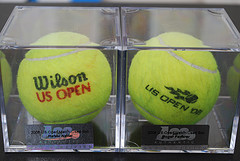tennis ball: (15, 29, 113, 124), (127, 31, 223, 127)
